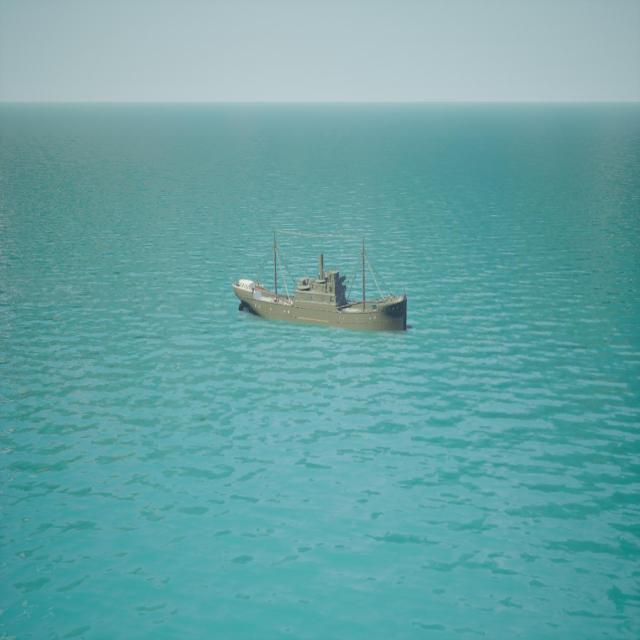fishing ship: (234, 238, 407, 333)
